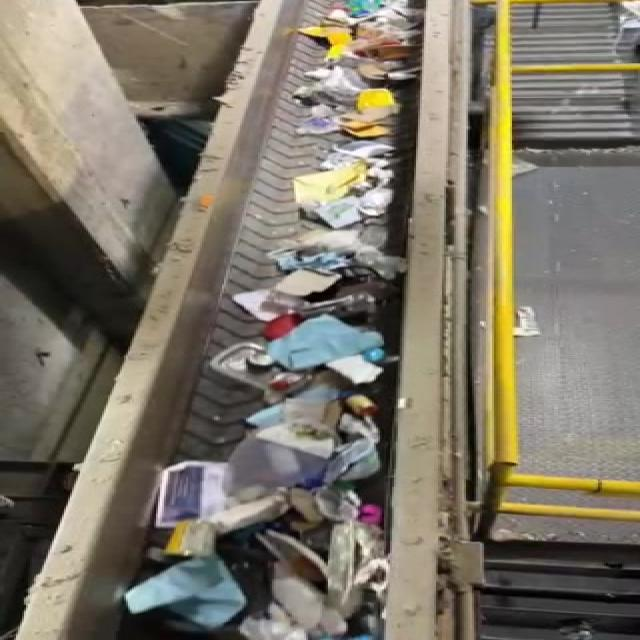metal: (318, 383, 390, 430)
paper: (302, 504, 403, 605), (128, 554, 253, 622), (138, 454, 233, 532), (232, 424, 361, 464)
